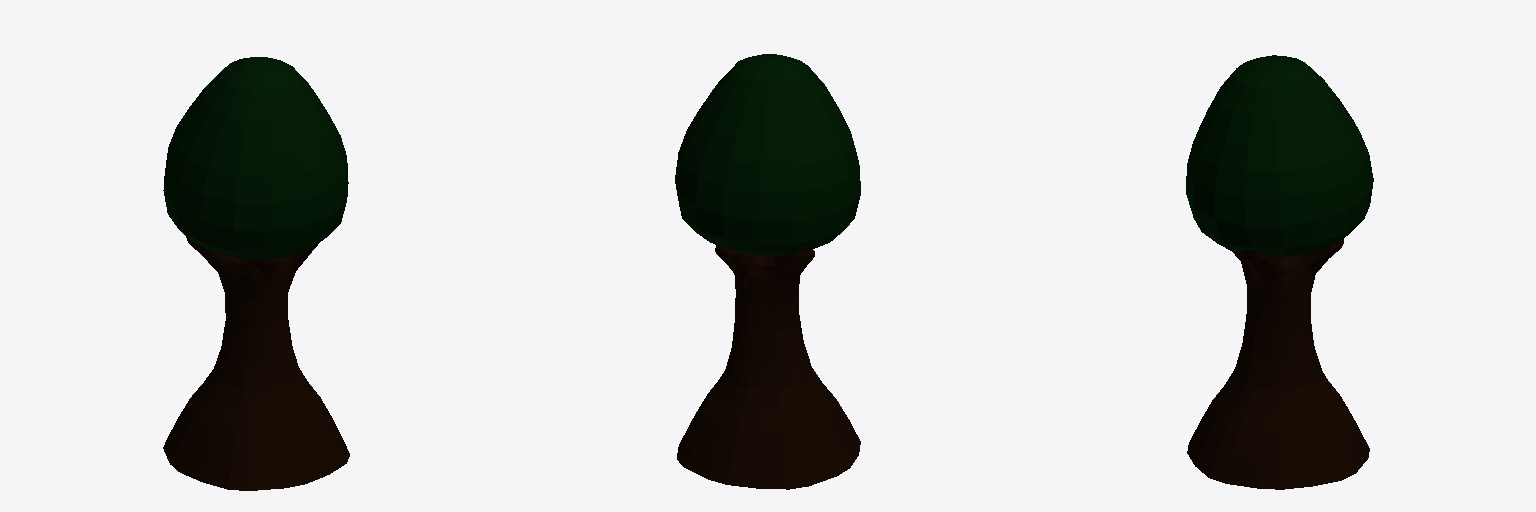
File: itsatree.obj
3 views of the same model, side by side, from view 1: azimuth 30°, elevation 25°; view 2: azimuth 150°, elevation 25°; view 3: azimuth 270°, elevation 25° (orthographic).
Visible parts, largest first — view 1: Cylinder; view 2: Cylinder; view 3: Cylinder.
Boxes of the visible parts, x1=… form: Cylinder: x1=163, y1=57, x2=349, y2=490; Cylinder: x1=675, y1=54, x2=860, y2=489; Cylinder: x1=1186, y1=55, x2=1373, y2=489.
Bounding box in the file's own units: 4.98 × 11.41 × 4.97.